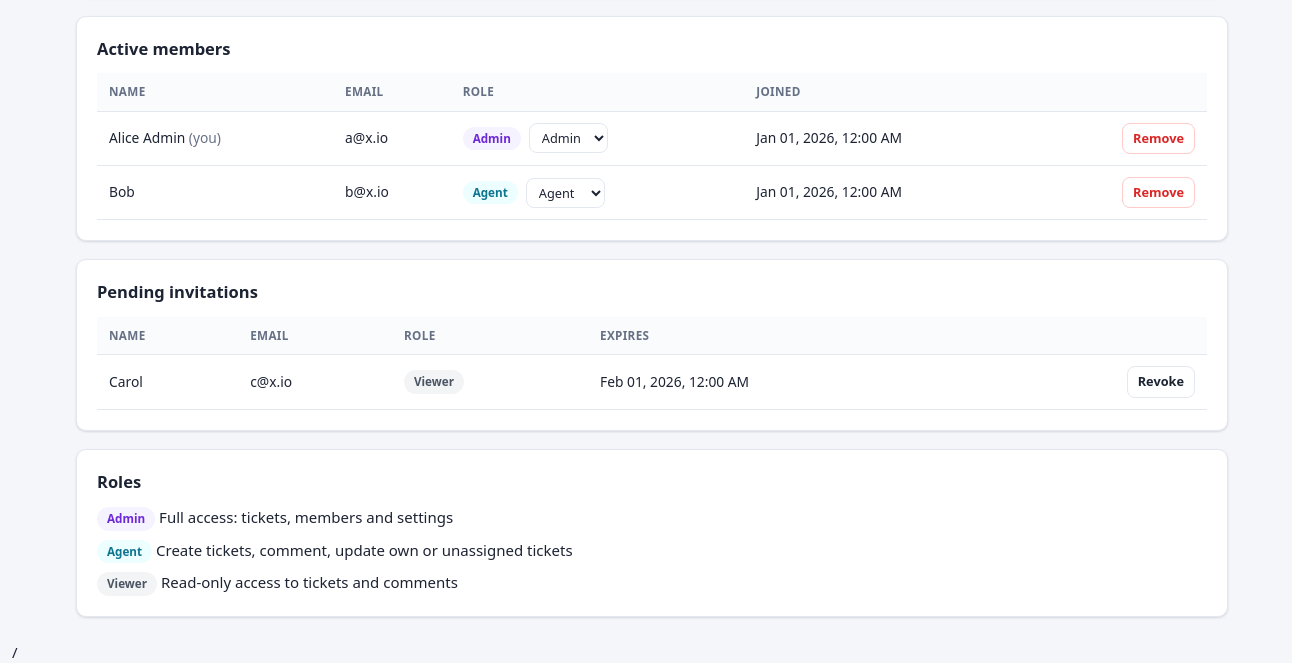
Scenario: Members page › revokes invitations
The image size is (1292, 663).
(page scrolled)
Click the button "Revoke". click: (1161, 382)
box: x1=1127 y1=366 x2=1195 y2=398
(page scrolled)
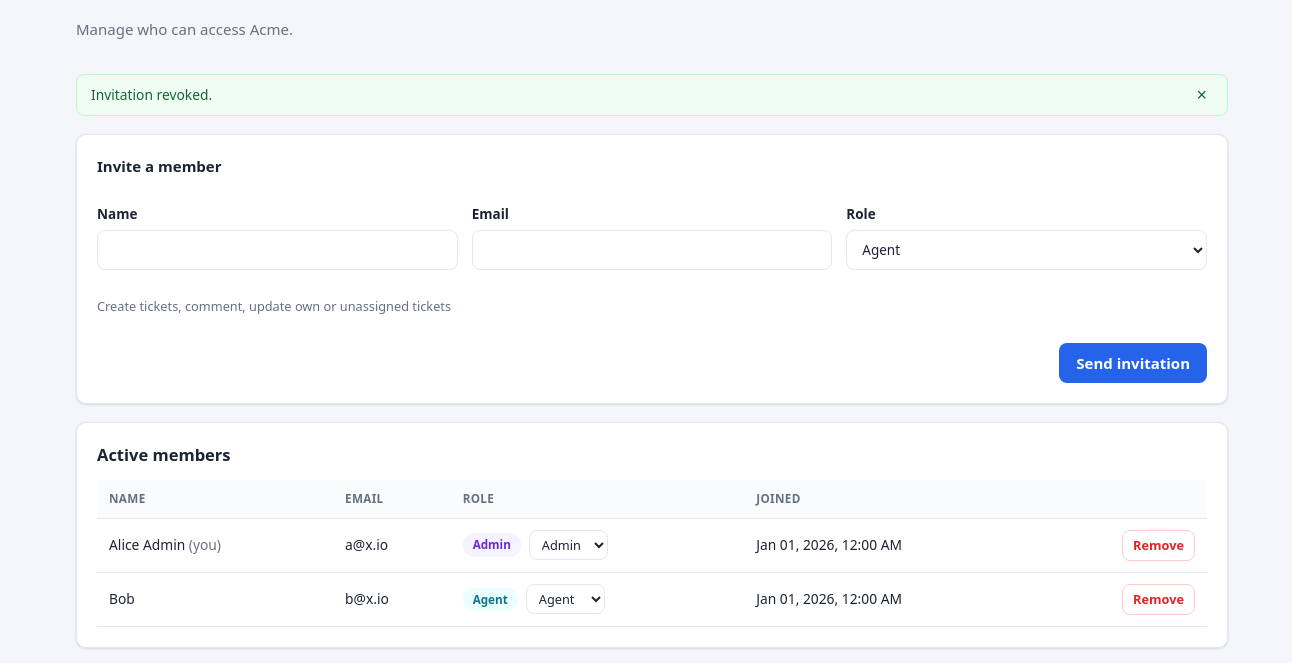
Check: the text "Invitation revoked." is shown, box x1=91 y1=84 x2=212 y2=105
